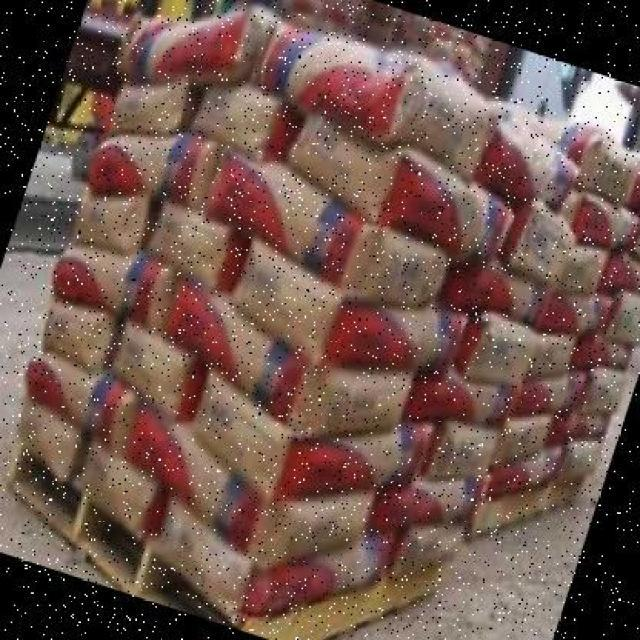gunny_bag: (201, 142, 372, 293), (162, 270, 312, 425), (121, 399, 266, 557), (259, 27, 416, 143), (190, 357, 292, 504), (227, 244, 340, 359), (282, 115, 404, 219), (154, 500, 257, 623), (24, 351, 137, 459), (52, 240, 169, 339), (118, 10, 260, 88), (80, 131, 217, 210), (79, 435, 169, 547), (110, 315, 195, 415), (142, 204, 230, 291), (187, 85, 282, 164), (490, 124, 571, 209), (370, 473, 487, 530), (13, 397, 86, 485), (466, 310, 536, 393), (509, 198, 575, 286), (67, 192, 151, 257), (42, 299, 117, 366), (388, 521, 469, 583), (481, 267, 554, 332), (490, 417, 573, 470), (108, 81, 184, 138), (425, 425, 502, 480), (484, 446, 561, 498), (440, 380, 516, 432), (584, 135, 639, 202), (510, 375, 586, 422), (531, 327, 599, 379), (557, 243, 622, 297), (573, 198, 635, 253), (554, 433, 605, 487), (542, 289, 606, 330), (579, 367, 632, 415), (601, 285, 640, 350), (564, 404, 620, 447), (588, 328, 638, 370), (613, 253, 640, 300)
